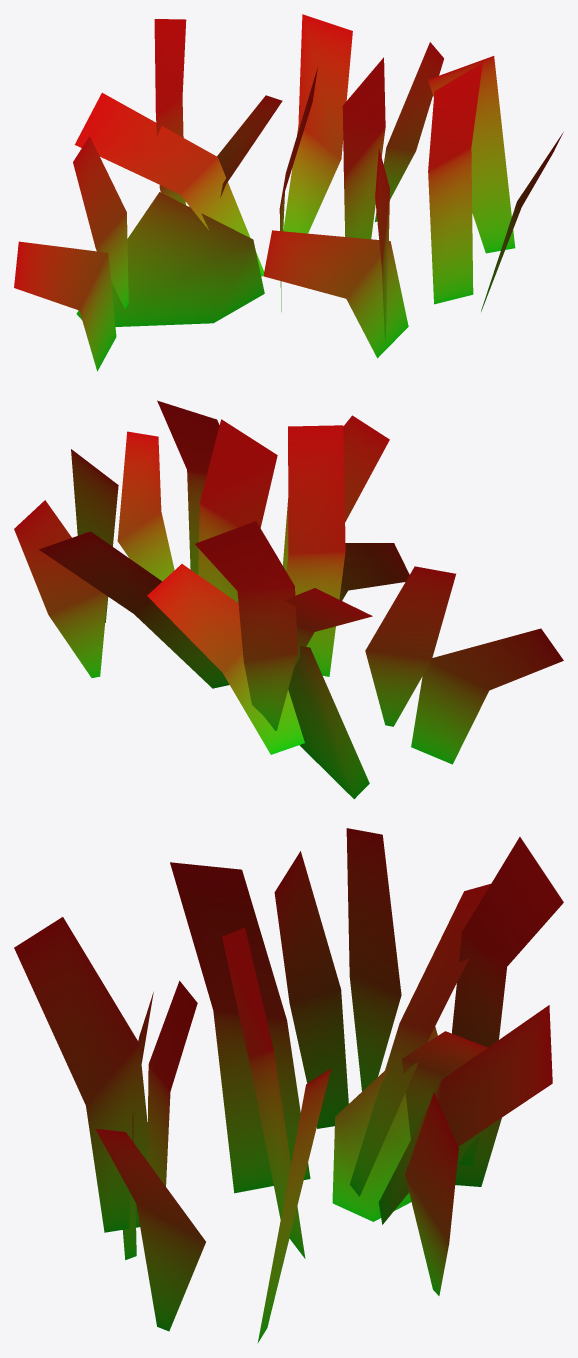
Rendered from Var1_LOD2.fbx.
The picture shows the model from 3 angles, top to bottom: view 1: azimuth 30°, elevation 25°; view 2: azimuth 150°, elevation 25°; view 3: azimuth 270°, elevation 25°; orthographic projection. The views are drawn at different scales.
Parts seen in each view (by area): view 1: _de7d_Var1_LOD2; view 2: _de7d_Var1_LOD2; view 3: _de7d_Var1_LOD2.
Part boxes in pixels (bbox=[...]): _de7d_Var1_LOD2: bbox=[14, 14, 563, 371]; _de7d_Var1_LOD2: bbox=[14, 400, 563, 799]; _de7d_Var1_LOD2: bbox=[14, 828, 563, 1343].
Bounding box in the file's own units: 9.27 × 5.07 × 6.26.
